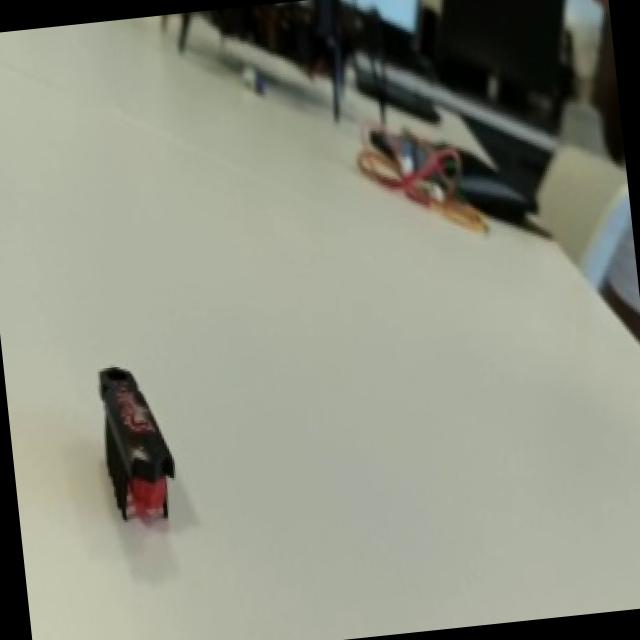2_NanoBug_Negro: (58, 332, 210, 548)
